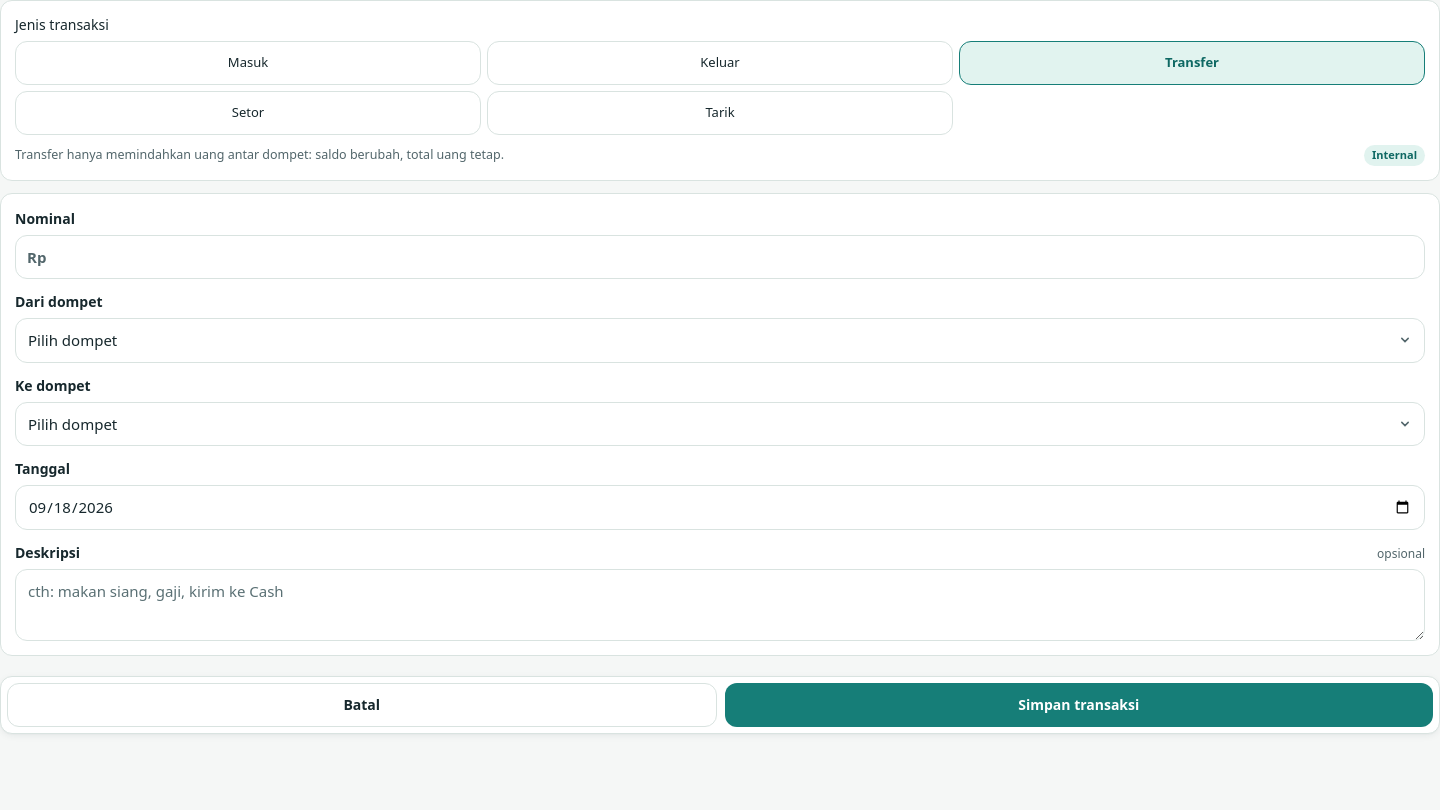
it: TransactionForm (real create flow, no placeholders) › clears references that the other kinds cannot use
Click the button "Masuk". click: (248, 63)
box: [15,41,481,85]
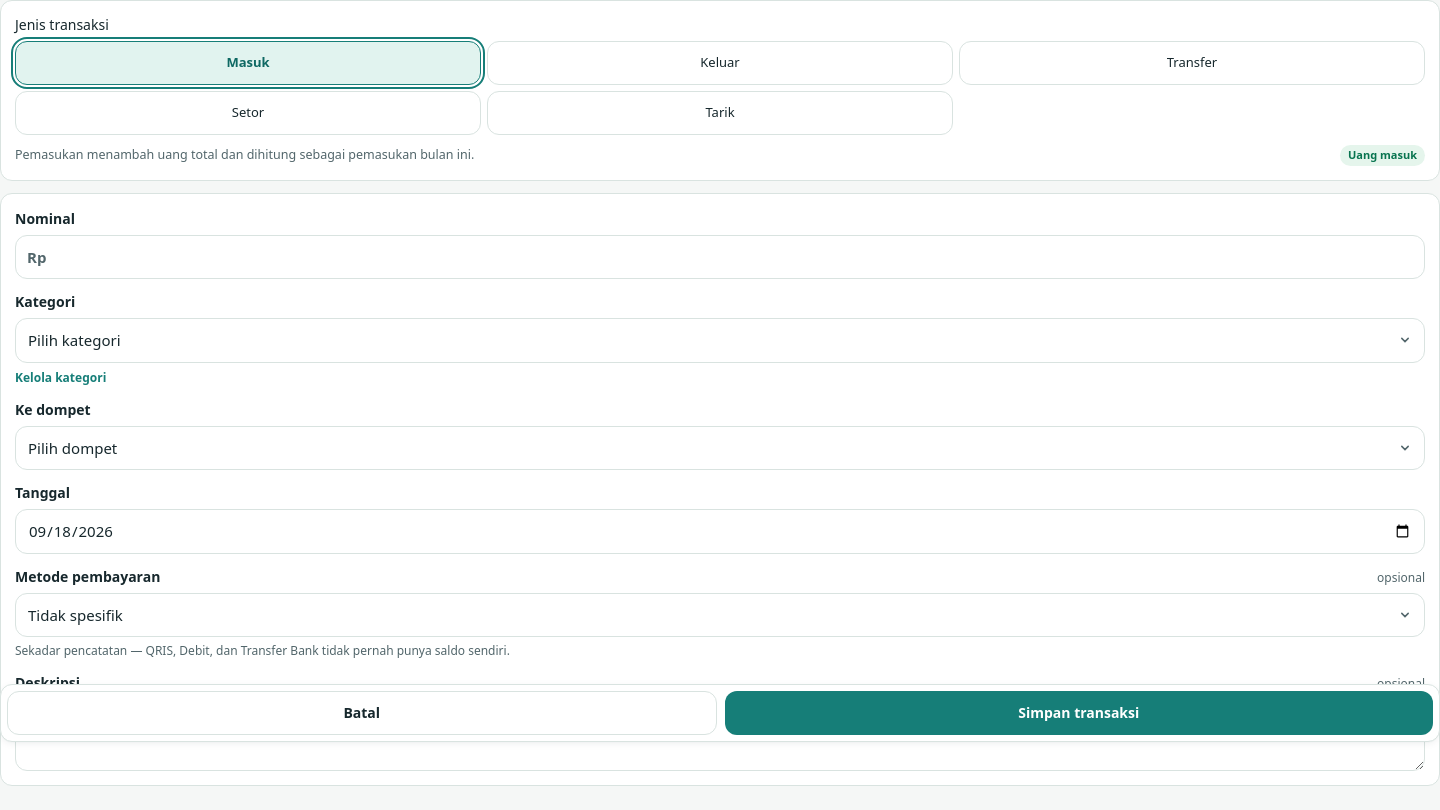
Expected: the dropdown labelled "Ke dompet" is shown, [15,426,1425,470]
Now the text labelled "Dari dompet" is gone
